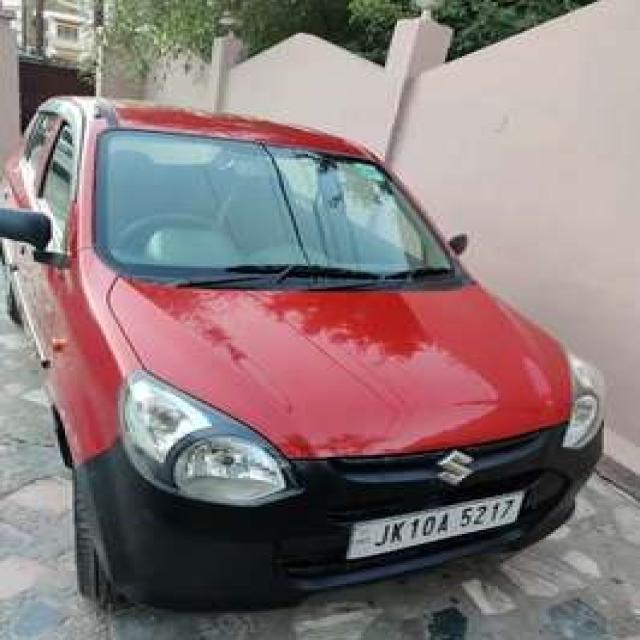licenseplate: (339, 488, 527, 561)
